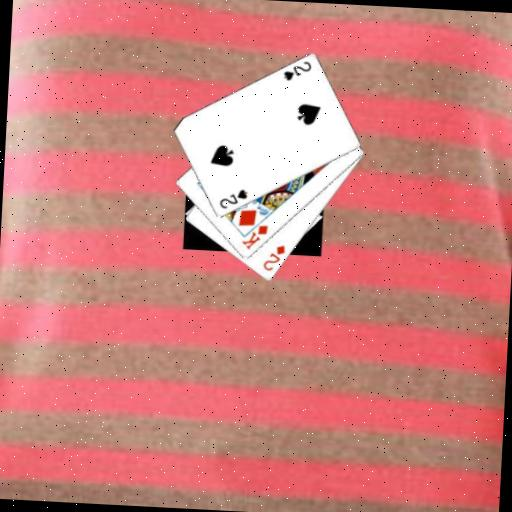2D: (260, 242, 287, 274)
2S: (216, 185, 249, 212), (281, 57, 314, 84)
KD: (238, 221, 270, 253)
